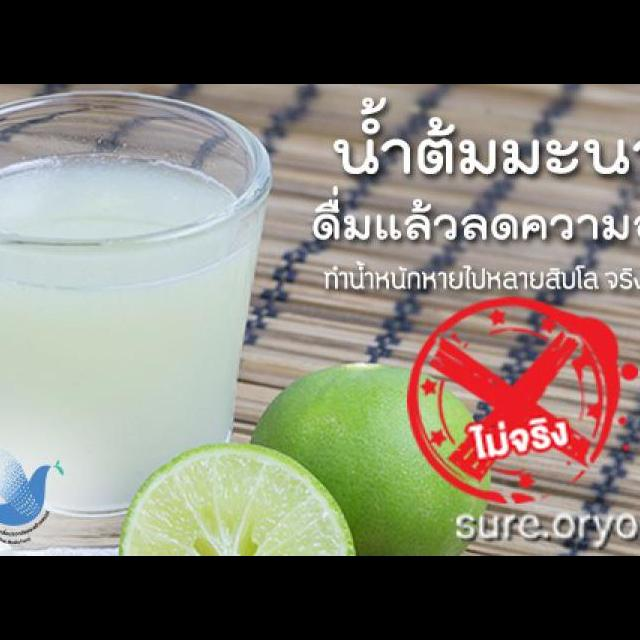lime: (244, 358, 497, 556)
